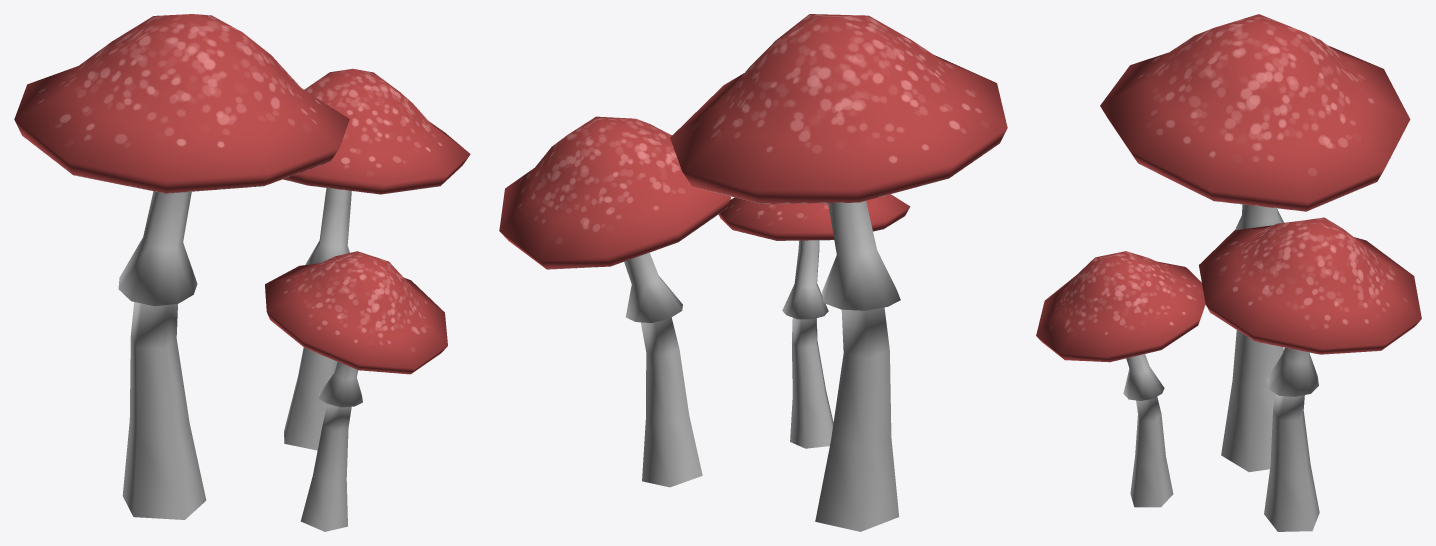
3 views of the same model, side by side, from view 1: azimuth 30°, elevation 25°; view 2: azimuth 150°, elevation 25°; view 3: azimuth 270°, elevation 25° (orthographic). The views are drawn at different scales.
Visible parts, largest first — view 1: submesh_0; view 2: submesh_0; view 3: submesh_0.
Part boxes in pixels (x1,y1,x2,y2): submesh_0: (14,14,470,531); submesh_0: (499,14,1007,531); submesh_0: (1036,14,1421,531).
Bounding box in the file's own units: 0.4443 × 0.4693 × 0.3692.
Materials: 1 (1 with a texture image).
